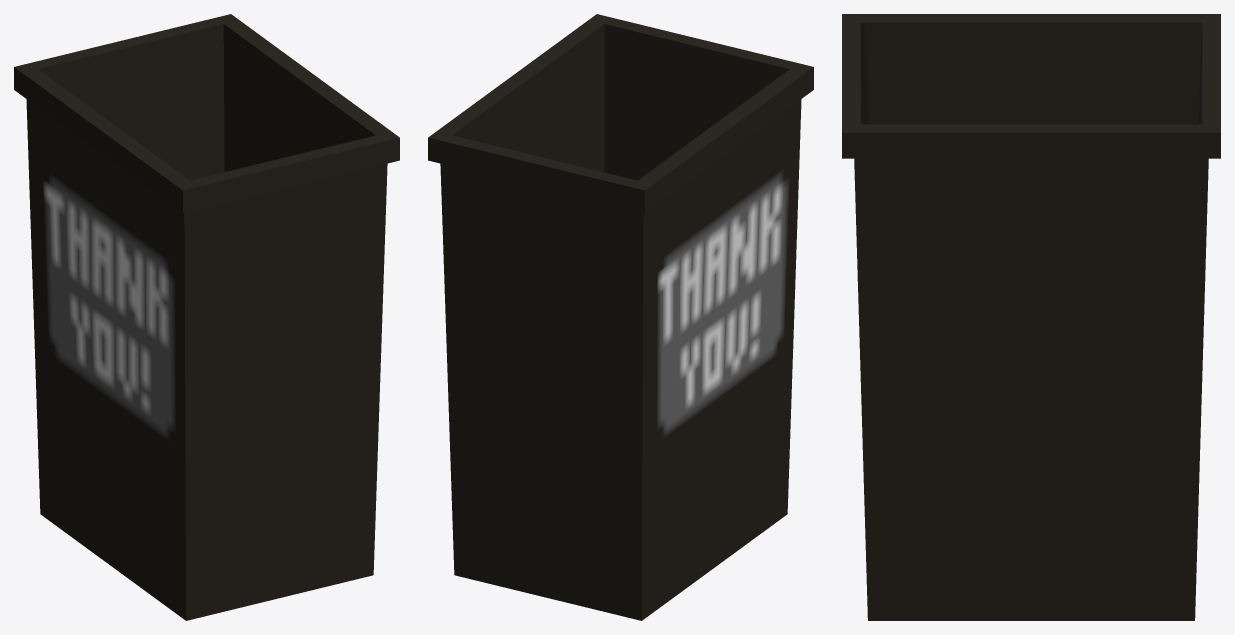
Rendered from TrashCan.fbx.
3 renders of one model, left to right at view 1: azimuth 30°, elevation 25°; view 2: azimuth 150°, elevation 25°; view 3: azimuth 270°, elevation 25°, orthographic. The views are drawn at different scales.
Parts seen in each view (by area): view 1: Trashcan.003; view 2: Trashcan.003; view 3: Trashcan.003.
Boxes of the visible parts, x1,y1,x2,y2 form: Trashcan.003: (14,14,399,620); Trashcan.003: (428,14,813,620); Trashcan.003: (842,14,1220,620).
Bounding box in the file's own units: 66.02 × 129 × 88.96.
